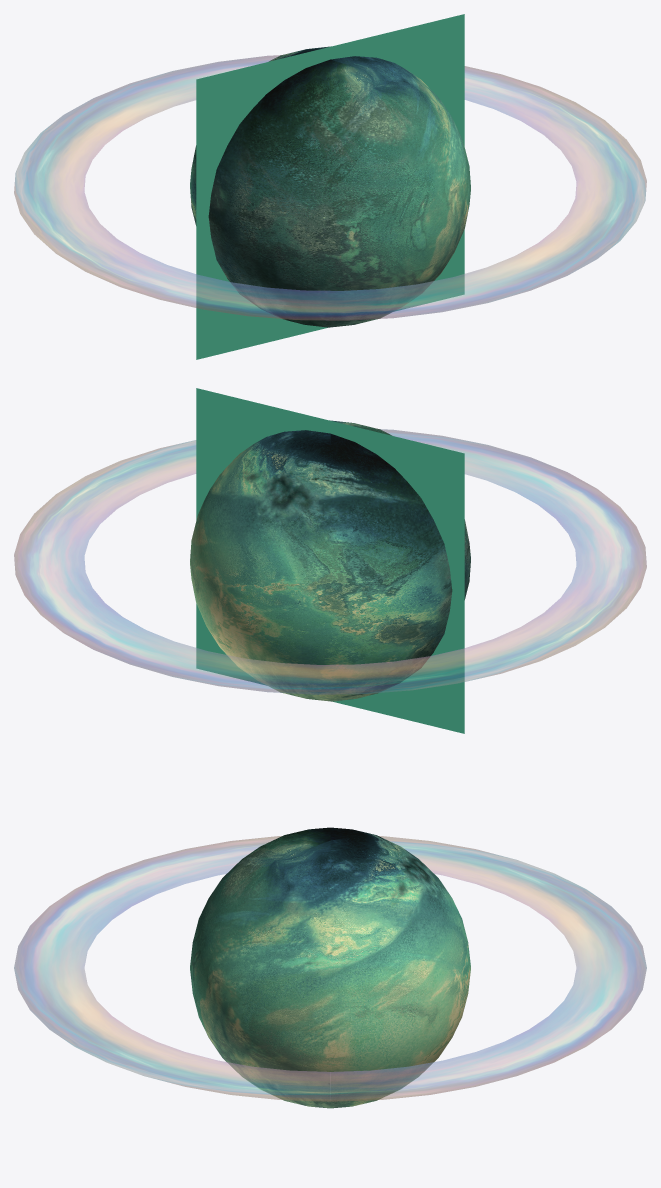
The model's file is planet_k.fbx.
The picture shows the model from 3 angles, top to bottom: view 1: azimuth 30°, elevation 25°; view 2: azimuth 150°, elevation 25°; view 3: azimuth 270°, elevation 25°; orthographic projection.
Visible parts, largest first — view 1: planet_k, planet_k_ring_b, planet_k_glow; view 2: planet_k, planet_k_ring_b, planet_k_glow; view 3: planet_k, planet_k_ring_b.
Part boxes in pixels (bbox=[...]): planet_k: bbox=[190, 46, 470, 327]; planet_k_ring_b: bbox=[14, 55, 646, 320]; planet_k_glow: bbox=[196, 14, 464, 359]; planet_k: bbox=[190, 420, 470, 701]; planet_k_ring_b: bbox=[14, 429, 646, 694]; planet_k_glow: bbox=[196, 388, 464, 733]; planet_k: bbox=[190, 827, 470, 1108]; planet_k_ring_b: bbox=[14, 836, 646, 1101].
Size of the model in its own units: 900 by 440 by 900.
3 materials, 2 textured.
